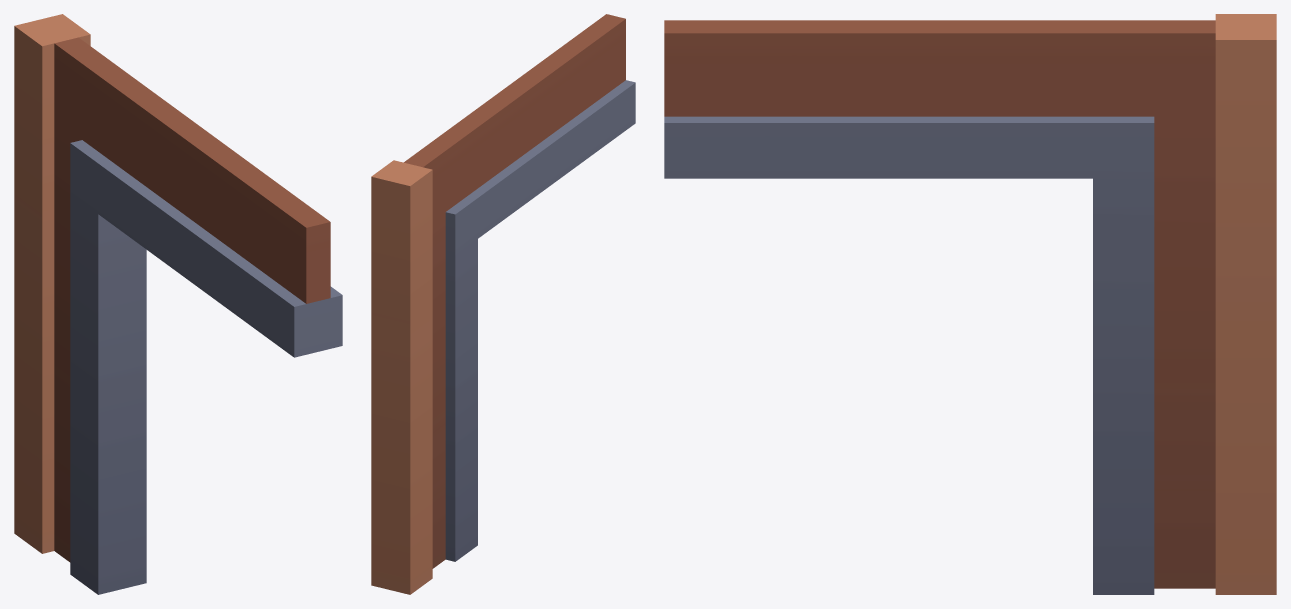
Rendered from wall-wood-doorway-square-wide.glb.
The picture shows the model from 3 angles, left to right: view 1: azimuth 30°, elevation 25°; view 2: azimuth 150°, elevation 25°; view 3: azimuth 270°, elevation 25°; orthographic projection. The views are drawn at different scales.
Visible parts, largest first — view 1: wall-wood-doorway-square-wide; view 2: wall-wood-doorway-square-wide; view 3: wall-wood-doorway-square-wide.
Boxes of the visible parts, x1,y1,x2,y2 form: wall-wood-doorway-square-wide: (14,14,342,594); wall-wood-doorway-square-wide: (371,14,635,594); wall-wood-doorway-square-wide: (664,14,1276,594).
Size of the model in its own units: 0.1 by 1 by 1.
1 material, 1 textured.
